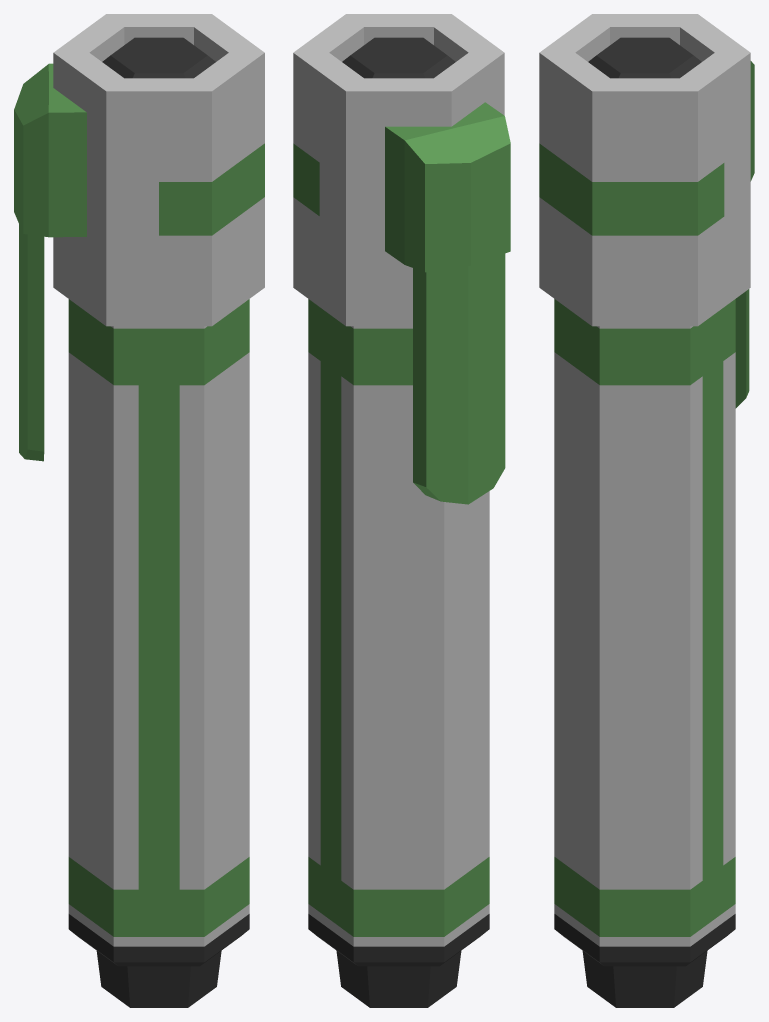
The model's file is Int_OfficeMarker01_3.fbx.
3 views of the same model, side by side, from view 1: azimuth 30°, elevation 25°; view 2: azimuth 150°, elevation 25°; view 3: azimuth 270°, elevation 25° (orthographic).
Visible parts, largest first — view 1: Int_OfficeMarker01_3; view 2: Int_OfficeMarker01_3; view 3: Int_OfficeMarker01_3.
Part boxes in pixels (x1,y1,x2,y2): Int_OfficeMarker01_3: (14, 14, 264, 1007); Int_OfficeMarker01_3: (293, 14, 510, 1007); Int_OfficeMarker01_3: (539, 14, 754, 1007).
Size of what is drawn, in the model's own units: 5.69 by 5.22 by 25.
